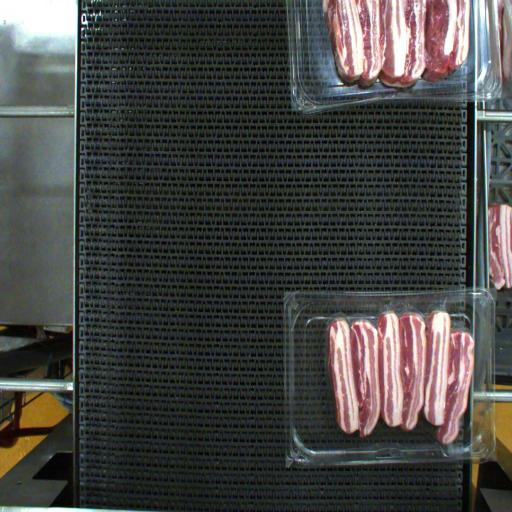unsealed: (319, 306, 467, 423)
